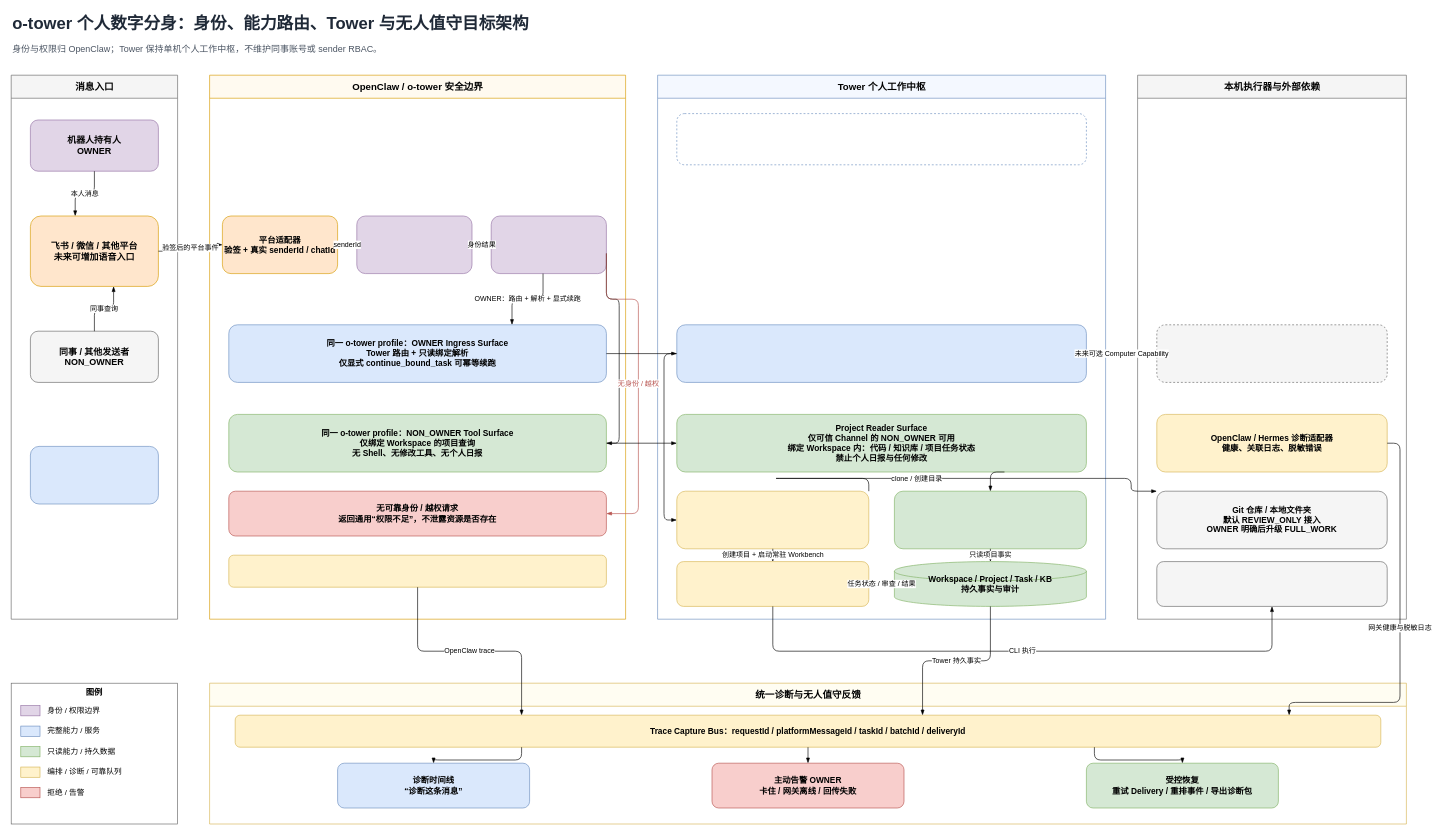
The diagram is 1443 pixels wide and 835 high, and some of its shapes have lost their labels. Each missing label, with the centre of its shape:
"Claude / Codex / 其他 CLI 任务终端" goes at pixel 1271 583.
"Identity + Trusted Channel Policy 稳定 ID 判 OWNER；chatId 判可信入口" goes at pixel 414 244.
"Owner Control Plane 普通问答不入 Tower；任务回复先只读解析 项目写操作入 Workbench；显式续跑复用入站幂等" goes at pixel 881 353.
"Tower 不重复判断平台 OWNER；只接受签名内部调用，并强制项目范围、Workbench 归属、幂等与状态机约束。" goes at pixel 881 139.
"可靠 Workbench / Task Inbox + Batch ACK + Review DONE + FINAL_RESULT 原子完成" goes at pixel 772 583.
"未来 Computer Operator 仅 OWNER 路由可见；接收 towerContext GUI 操作不写 Tower、不恢复任务" goes at pixel 1271 353.
"结构化 Trace Emit sender 决策 / 路由 / 工具调用 / 外部错误" goes at pixel 417 571.
"统一回复原会话 卡片 / 文本 / 未来 TTS" goes at pixel 94 475.
"能力路由器 代码级策略 + Tool Allowlist" goes at pixel 548 244.
"远程项目接入编排器 OWNER only 缺 Workspace / 本地根目录则持久询问" goes at pixel 772 520.
"项目只读讨论与查询 Workspace 绑定范围 项目级回答，不暴露个人聚合信息" goes at pixel 990 520.
